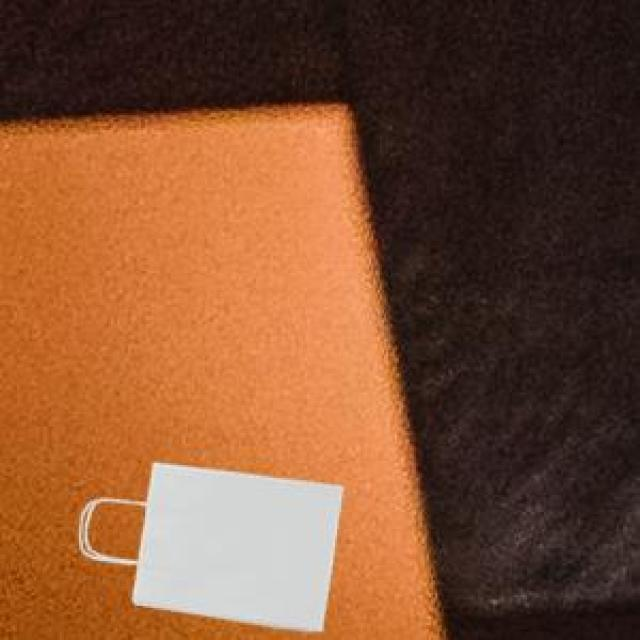paper: (81, 459, 338, 627)
